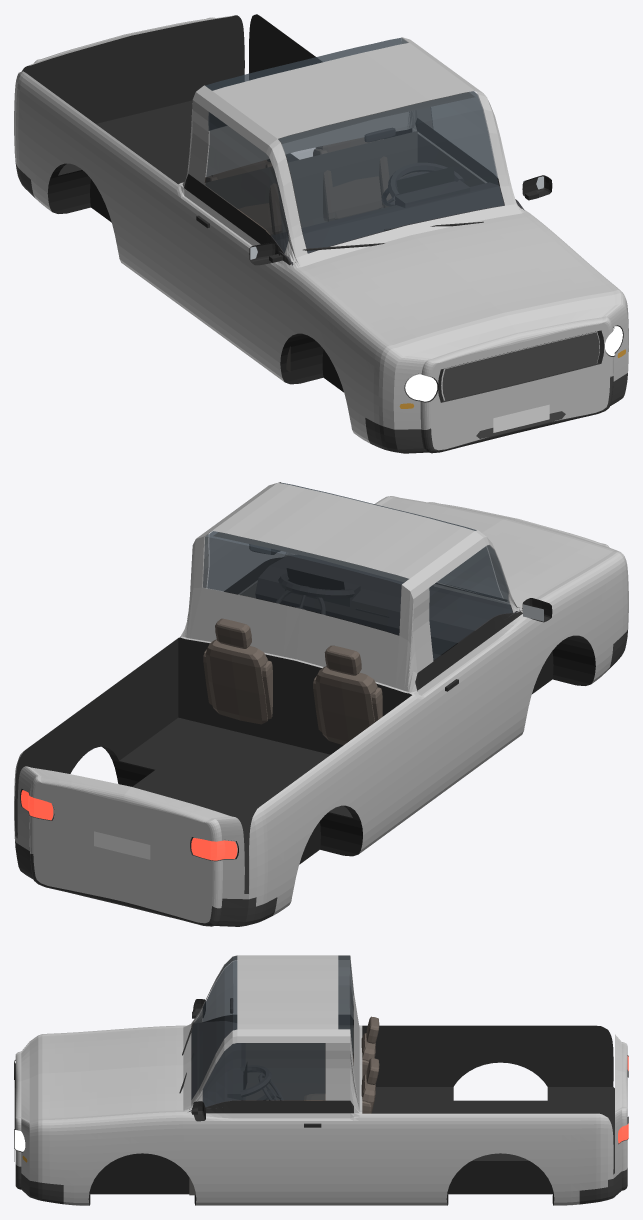
Rendered from car_mule.fbx.
The picture shows the model from 3 angles, top to bottom: view 1: azimuth 30°, elevation 25°; view 2: azimuth 150°, elevation 25°; view 3: azimuth 270°, elevation 25°; orthographic projection. The views are drawn at different scales.
Visible parts, largest first — view 1: mule__glass, mule__hood, mule__bed, mule__quarterR, mule__roof, mule__doorR, mule__fenderFR, mule__cabin, mule__fascia, mule__interior, mule__trunk, mule__pillars (+12 smaller); view 2: mule__bed, mule__quarterR, mule__glass, mule__rearPanel, mule__roof, mule__doorR, mule__seats, mule__trunk, mule__hood, mule__interior, mule__fenderFR, mule__wells (+9 smaller); view 3: mule__quarterL, mule__bed, mule__hood, mule__doorL, mule__glass, mule__fenderFL, mule__roof, mule__wells, mule__pillars, mule__interior, mule__cabin, mule__seals (+6 smaller).
Part boxes in pixels (x1=…): mule__glass: x1=205, y1=38, x2=503, y2=252; mule__hood: x1=295, y1=212, x2=620, y2=367; mule__bed: x1=22, y1=14, x2=412, y2=184; mule__quarterR: x1=14, y1=71, x2=188, y2=310; mule__roof: x1=203, y1=43, x2=482, y2=145; mule__doorR: x1=180, y1=192, x2=284, y2=380; mule__fenderFR: x1=276, y1=262, x2=426, y2=443; mule__cabin: x1=204, y1=92, x2=484, y2=372; mule__fascia: x1=420, y1=318, x2=613, y2=450; mule__interior: x1=271, y1=127, x2=524, y2=265; mule__trunk: x1=180, y1=111, x2=527, y2=268; mule__pillars: x1=186, y1=37, x2=518, y2=262; mule__bed: x1=15, y1=637, x2=411, y2=893; mule__quarterR: x1=217, y1=688, x2=430, y2=915; mule__glass: x1=203, y1=482, x2=512, y2=660; mule__rearPanel: x1=29, y1=777, x2=222, y2=923; mule__roof: x1=204, y1=483, x2=483, y2=585; mule__doorR: x1=422, y1=617, x2=526, y2=806; mule__seats: x1=203, y1=618, x2=382, y2=745; mule__trunk: x1=180, y1=554, x2=522, y2=693; mule__hood: x1=374, y1=496, x2=620, y2=607; mule__interior: x1=255, y1=554, x2=522, y2=660; mule__fenderFR: x1=518, y1=552, x2=628, y2=735; mule__wells: x1=102, y1=635, x2=595, y2=864; mule__quarterL: x1=346, y1=1109, x2=621, y2=1205; mule__bed: x1=362, y1=1025, x2=614, y2=1174; mule__hood: x1=15, y1=1025, x2=183, y2=1123; mule__doorL: x1=199, y1=1113, x2=346, y2=1205; mule__glass: x1=191, y1=955, x2=353, y2=1106; mule__fenderFL: x1=21, y1=1113, x2=198, y2=1205; mule__roof: x1=237, y1=955, x2=338, y2=1036; mule__wells: x1=88, y1=1153, x2=554, y2=1205; mule__pillars: x1=191, y1=955, x2=353, y2=1109; mule__interior: x1=189, y1=998, x2=274, y2=1111; mule__cabin: x1=189, y1=1025, x2=353, y2=1195; mule__seals: x1=191, y1=1014, x2=353, y2=1113.
Size of the model in its own units: 2.3 by 1.65 by 5.33.
